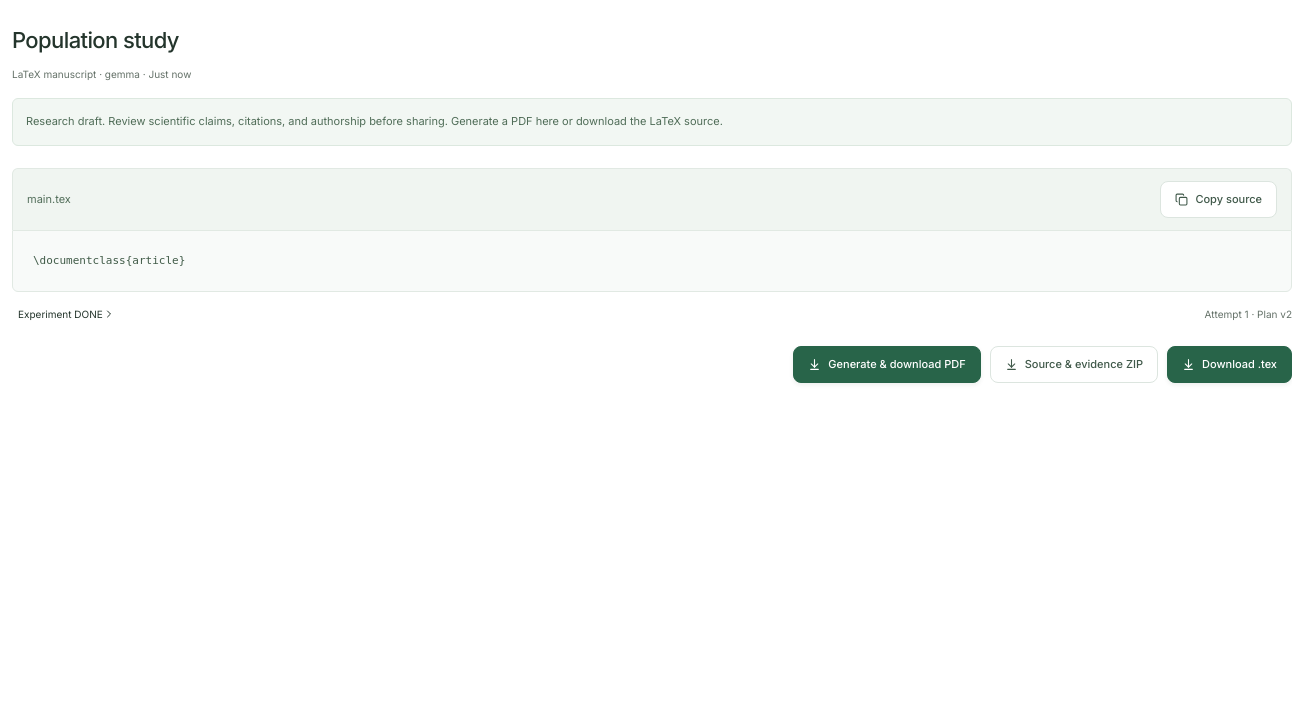
Test: preserves the source when PDF compilation fails
The image size is (1304, 720).
Click the button "Generate & download PDF".
click(887, 364)  # box [793,346,981,383]
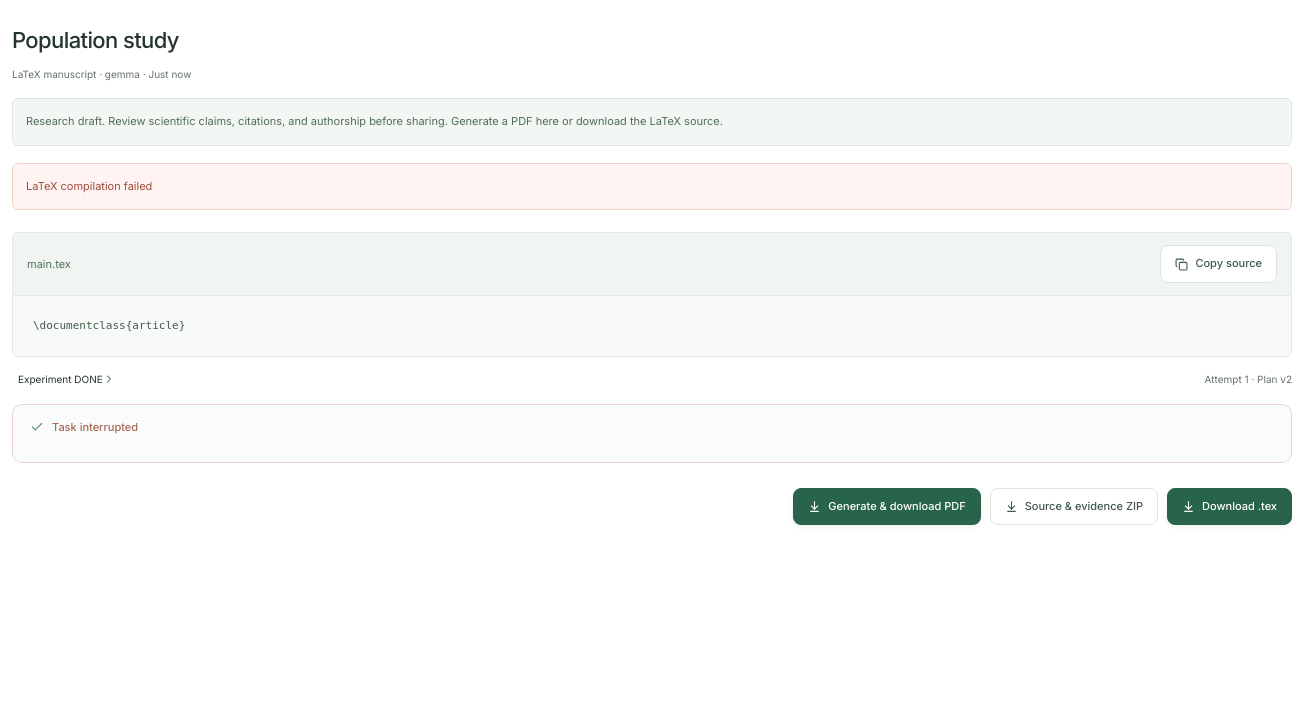
Expected: the text named "LaTeX manuscript source" is shown, [12,295,1292,357]
Result: the message reads "LaTeX compilation failed" at [26,179,152,193]
